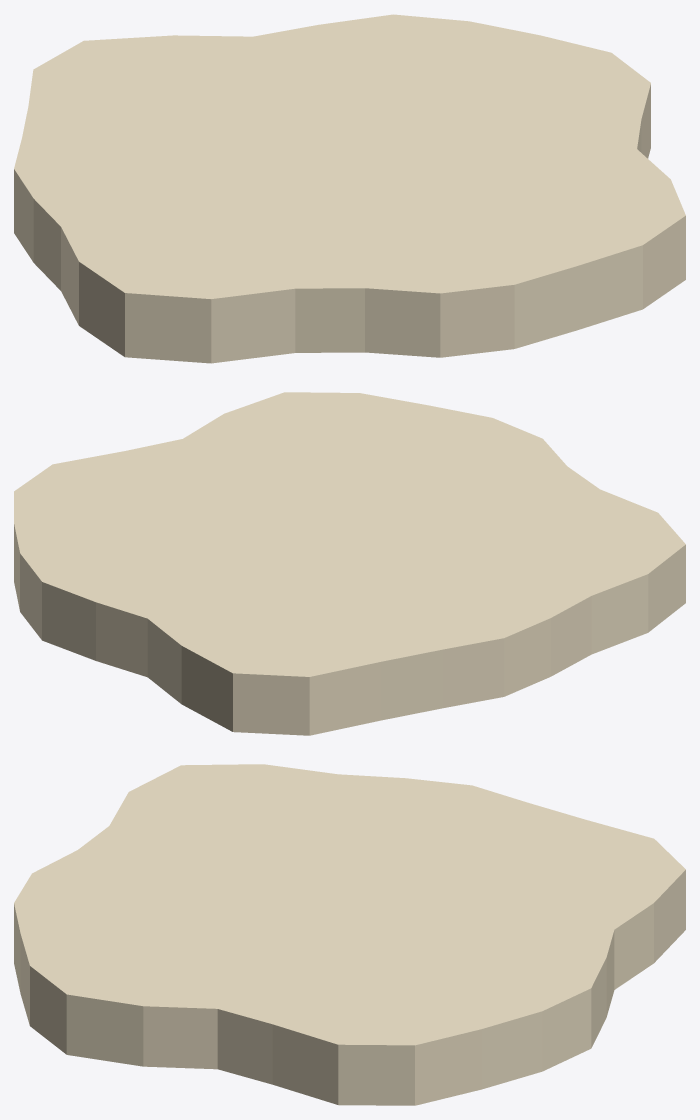
File: Food_kerupuk.fbx
The picture shows the model from 3 angles, top to bottom: view 1: azimuth 30°, elevation 25°; view 2: azimuth 150°, elevation 25°; view 3: azimuth 270°, elevation 25°; orthographic projection. The views are drawn at different scales.
Parts seen in each view (by area): view 1: KerupukBody; view 2: KerupukBody; view 3: KerupukBody.
Part boxes in pixels (x1,y1,x2,y2): KerupukBody: (14,14,685,363); KerupukBody: (14,392,685,735); KerupukBody: (14,764,685,1105).
Size of the model in its own units: 0.0998 by 0.01 by 0.1008.
